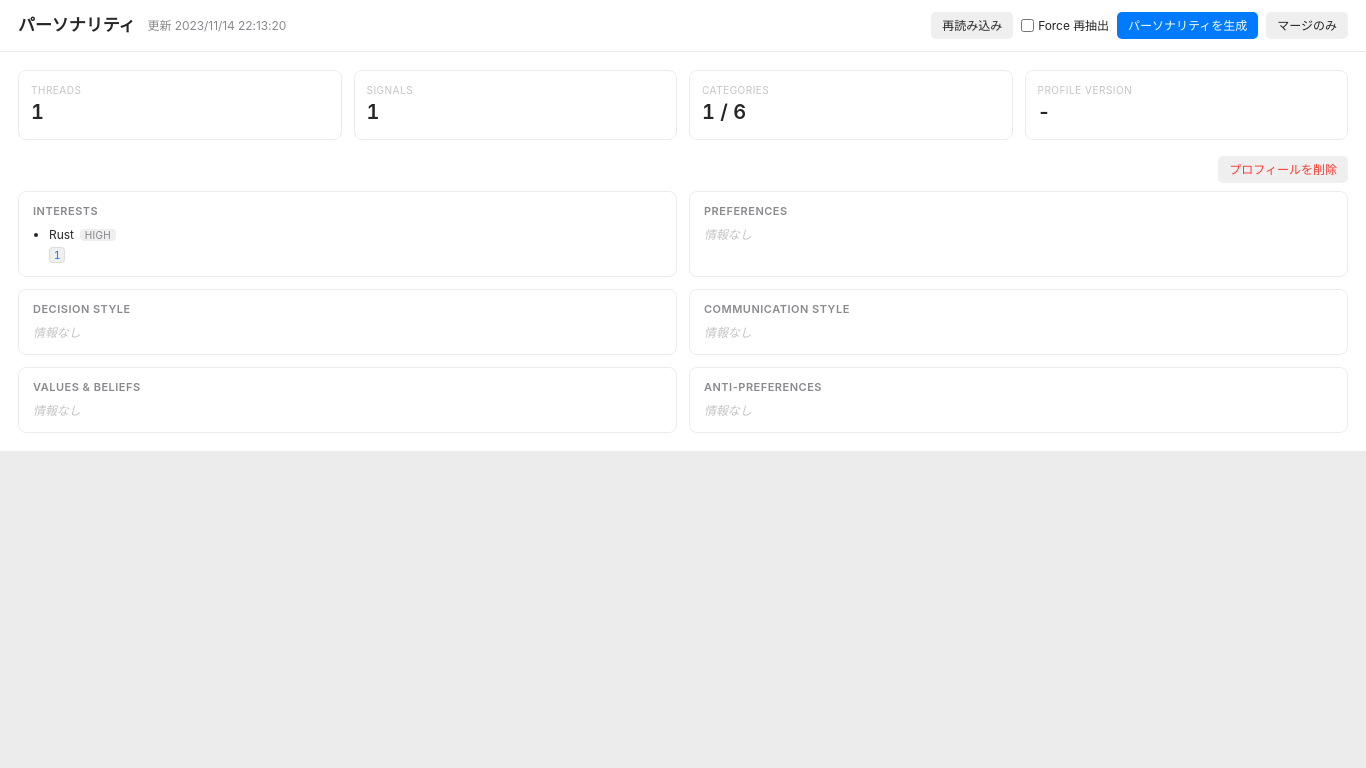
Test case: Personality merge-only button › opens profile memory chips through the memory's hydrated thread_ids
Expected: the text "Rust" is shown, [49, 227, 74, 242]
Click the button "1". click: (57, 255)
box: [49, 247, 66, 263]
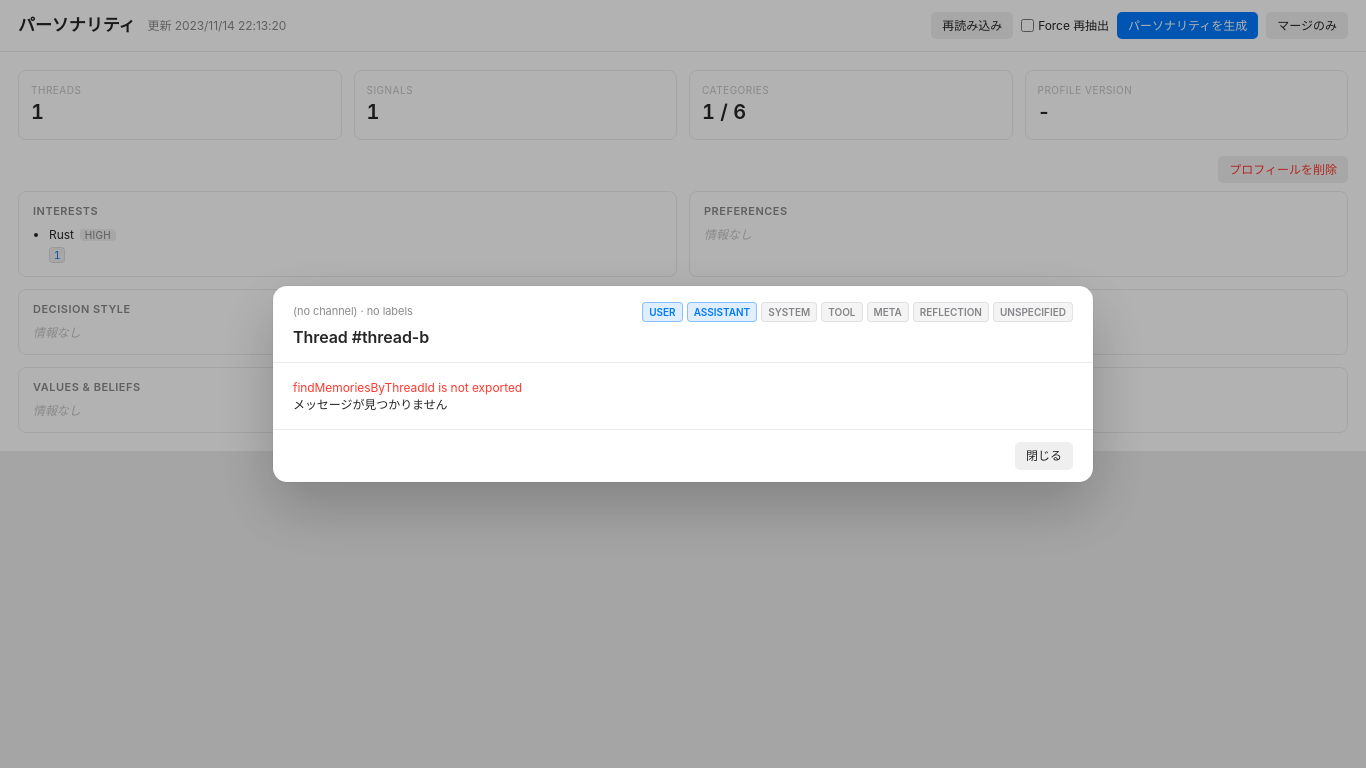
Expected: the text "Thread #thread-b" is shown, [293, 327, 429, 347]
